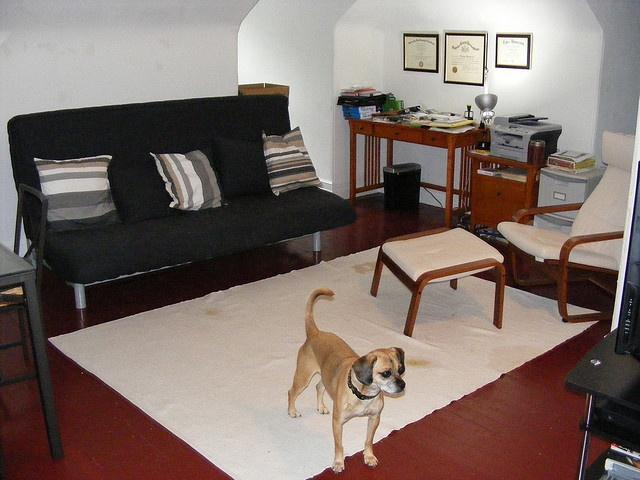Filing Cabinet: (532, 167, 587, 235)
Meja: (346, 109, 489, 227)
